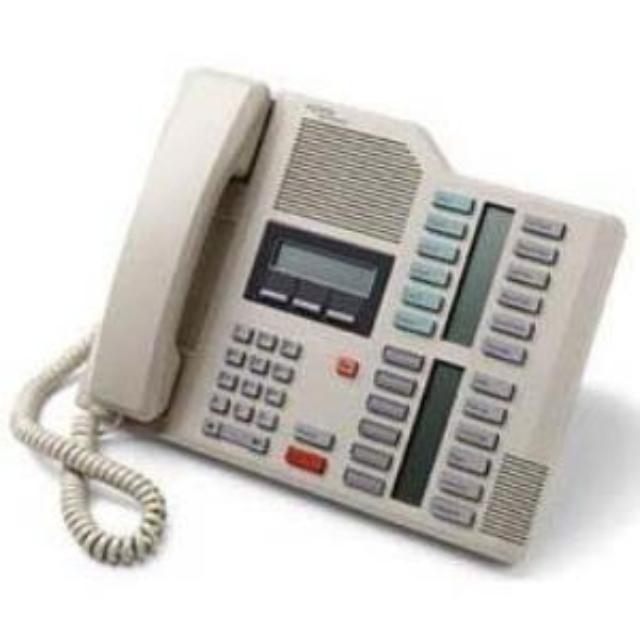Telephone-Set: (8, 72, 624, 584)
